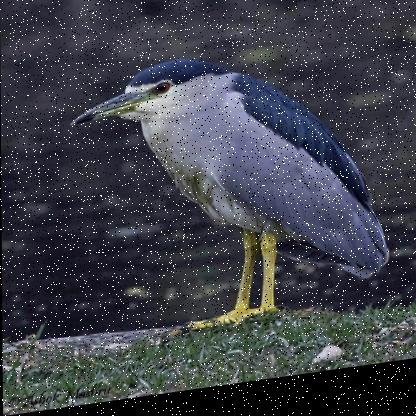Burung: (67, 43, 389, 349)
